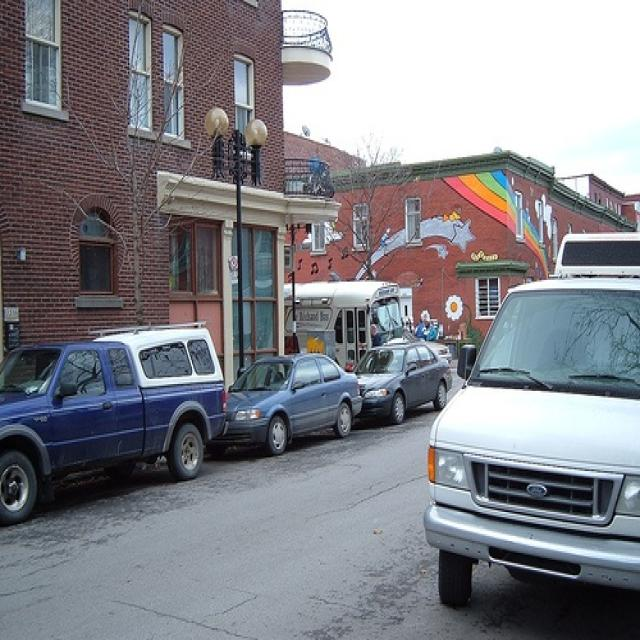bus: (284, 282, 403, 370)
car: (428, 237, 638, 611), (4, 331, 226, 527), (221, 352, 365, 452), (351, 343, 452, 422)
